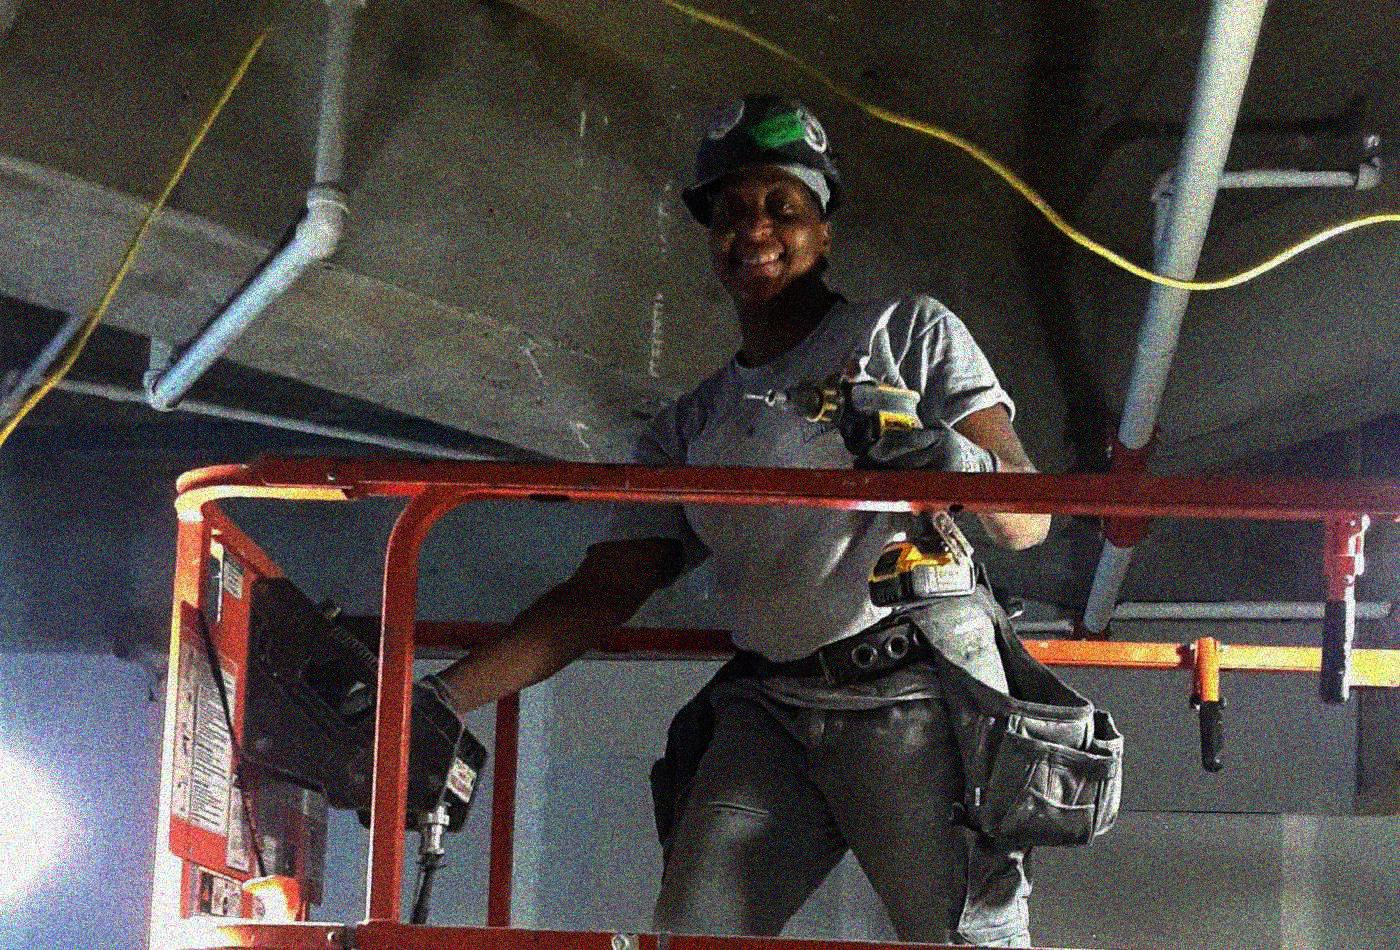helmet: (677, 89, 843, 301)
